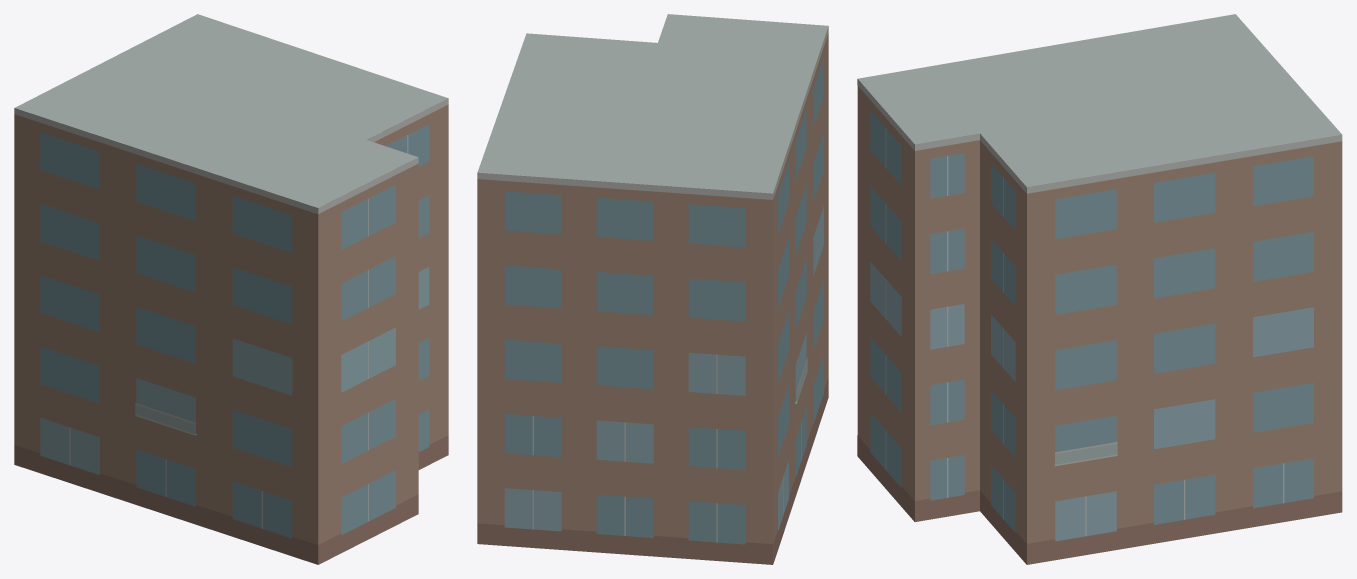
Rendered from survey-upis-32858624.glb.
3 renders of one model, left to right at view 1: azimuth 30°, elevation 25°; view 2: azimuth 150°, elevation 25°; view 3: azimuth 270°, elevation 25°, orthographic. The views are drawn at different scales.
Visible parts, largest first — view 1: survey-upis-32858624.tmp; view 2: survey-upis-32858624.tmp; view 3: survey-upis-32858624.tmp.
Boxes of the visible parts, x1,y1,x2,y2 form: survey-upis-32858624.tmp: [14, 14, 448, 564]; survey-upis-32858624.tmp: [477, 14, 828, 564]; survey-upis-32858624.tmp: [857, 14, 1342, 564].
Bounding box in the file's own units: 13.99 × 14.2 × 16.53.
